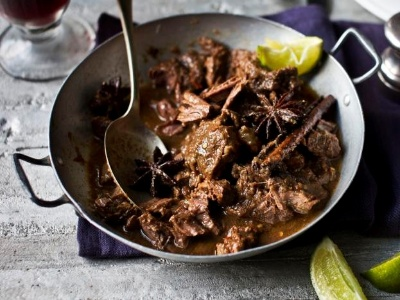rendang: (132, 65, 325, 226)
